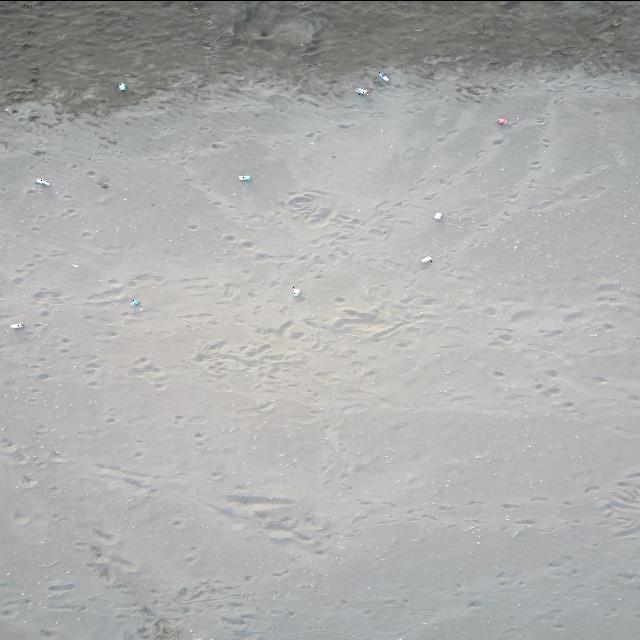Garbage: (35, 178, 49, 186), (377, 71, 388, 81), (118, 81, 127, 91), (129, 298, 140, 306), (420, 256, 432, 263), (432, 212, 442, 220), (496, 116, 507, 123), (355, 88, 367, 94), (292, 287, 299, 296), (9, 323, 23, 327), (240, 175, 249, 180), (71, 263, 77, 267)
